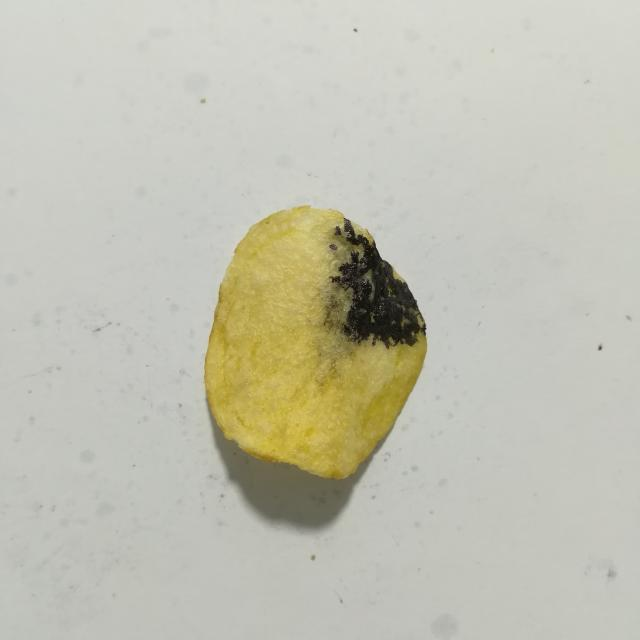chip: (205, 206, 426, 478)
damaged: (331, 218, 426, 348), (334, 226, 341, 235), (329, 244, 337, 250)
semi-damaged: (317, 282, 361, 382), (330, 234, 363, 276)
